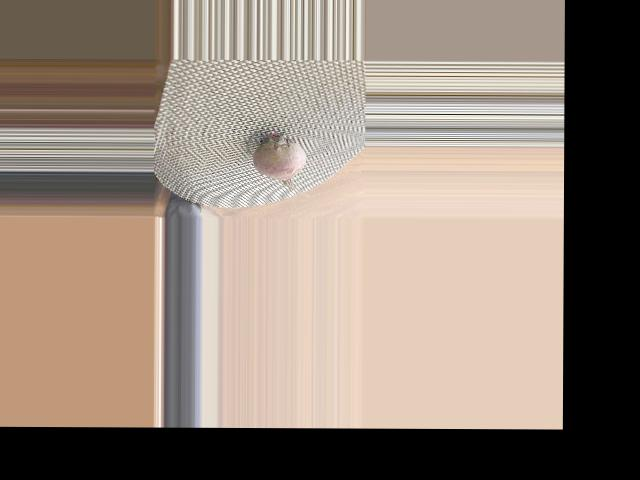beet: (245, 130, 314, 196)
